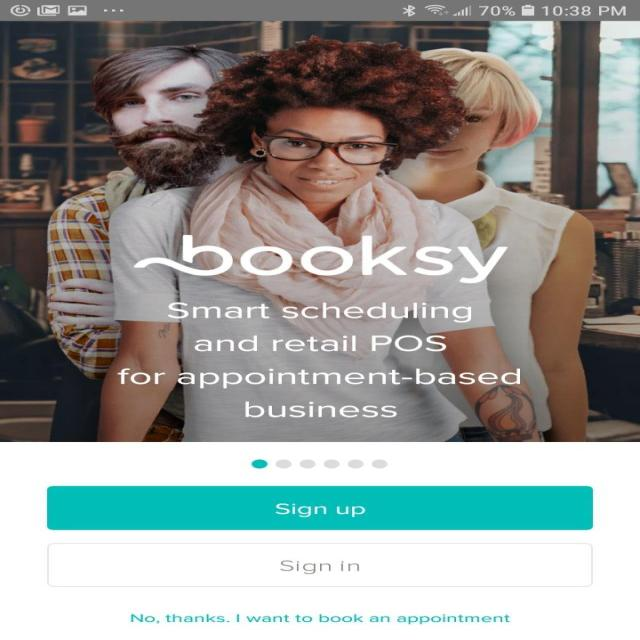Image: (0, 21, 639, 442), (132, 234, 508, 283)
Text: (117, 301, 520, 418), (130, 613, 510, 624)
TextButton: (46, 542, 592, 587), (47, 486, 593, 530)
